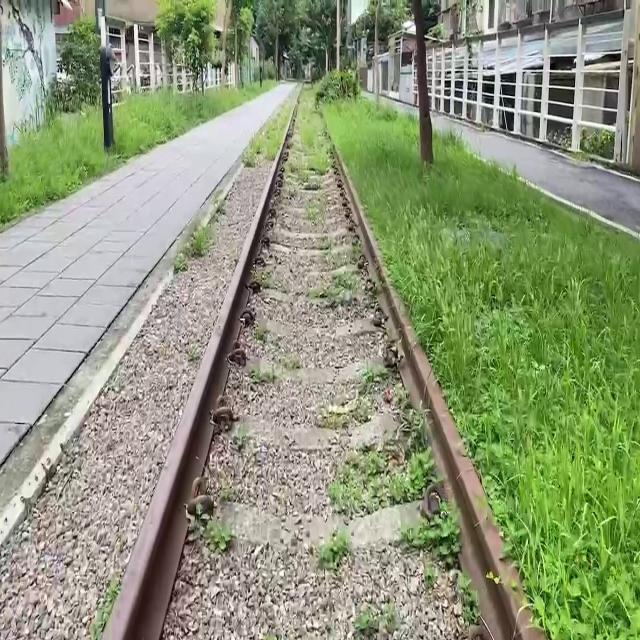rail-track: (161, 92, 469, 639)
